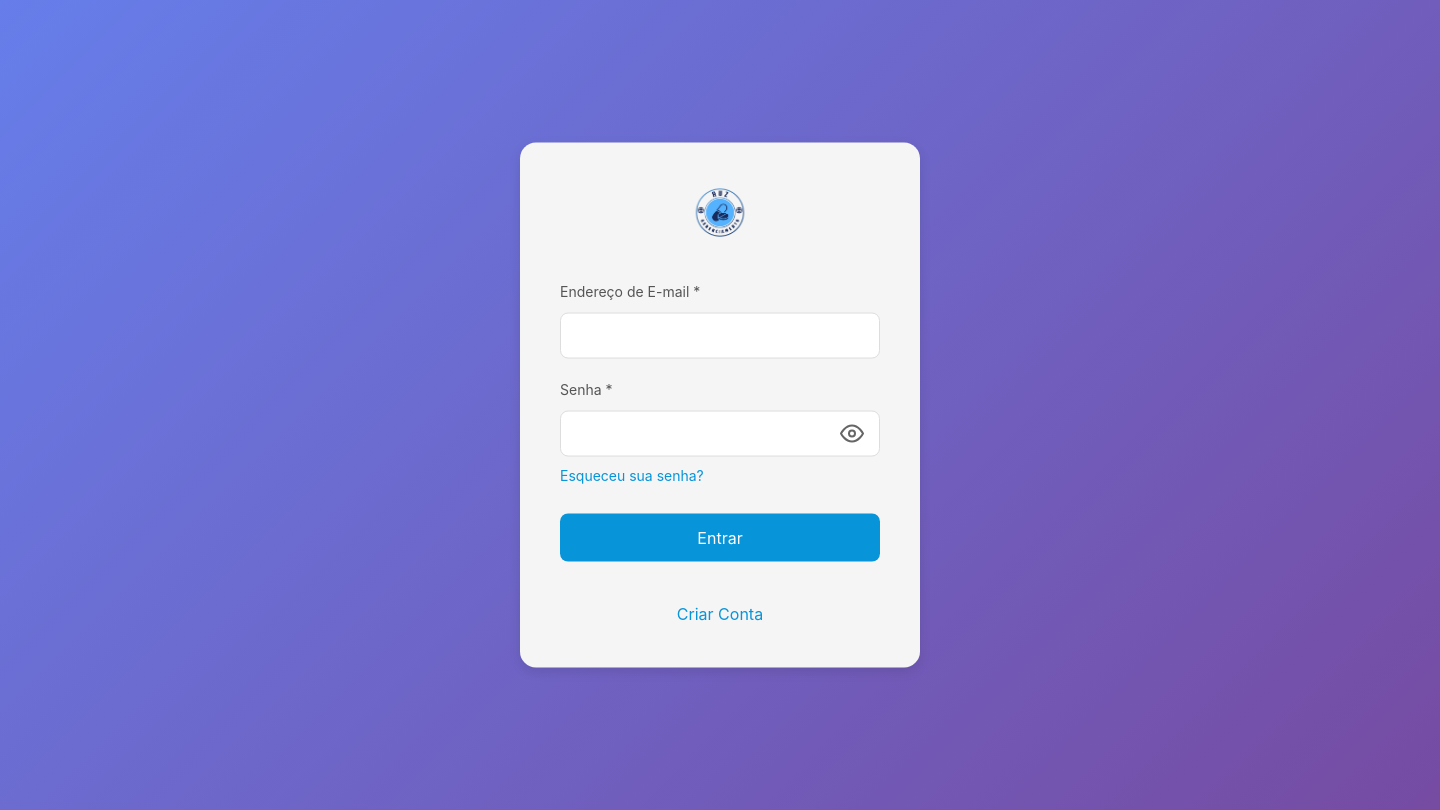
Test case: Login Component › shows validation error for invalid email format
This screenshot has width=1440, height=810.
In the field labelled "Endereço de E-mail *": (720, 336) [560,312,880,358], type "invalid-email"
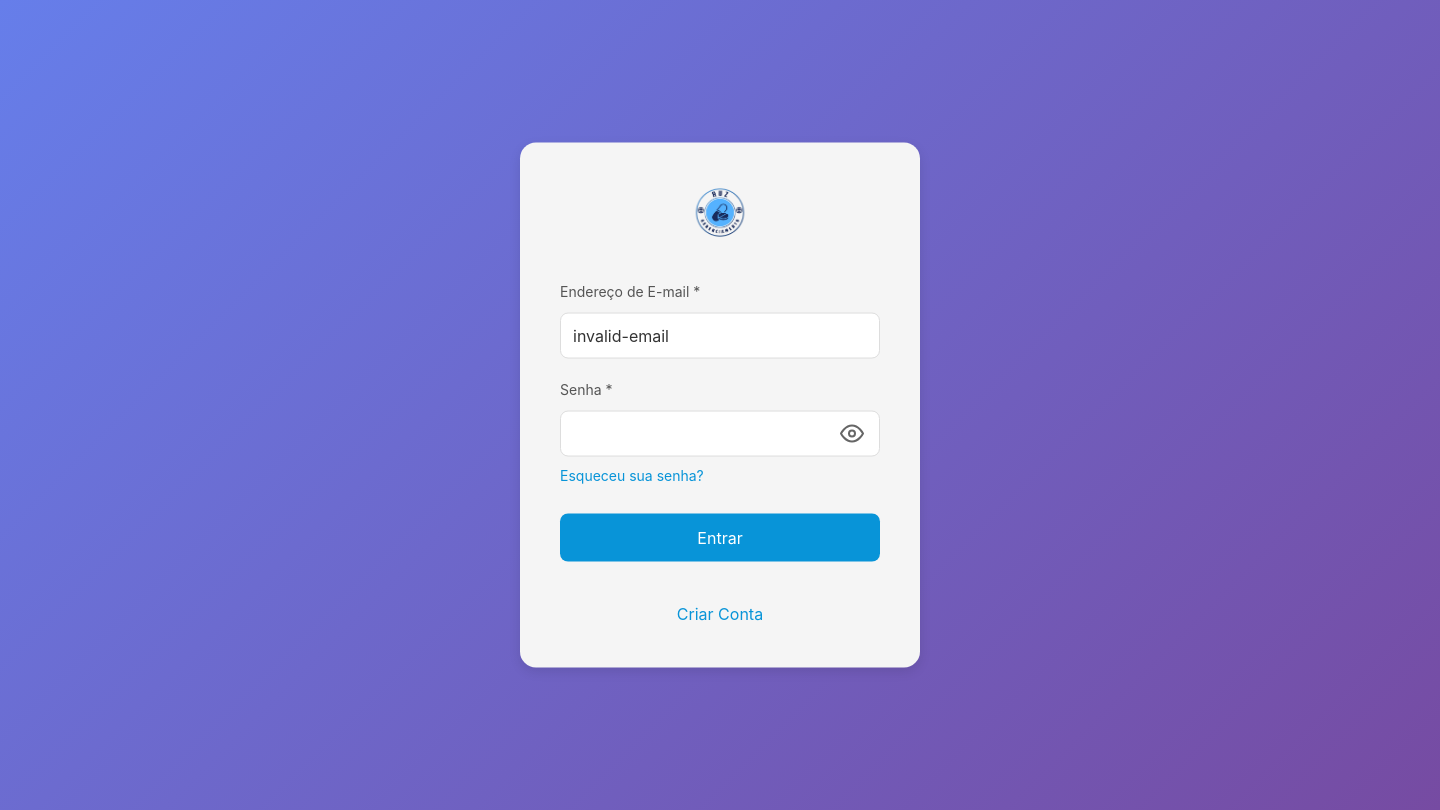
In the password field labelled "Senha *": (720, 434) [560,411,880,457], type "password123"
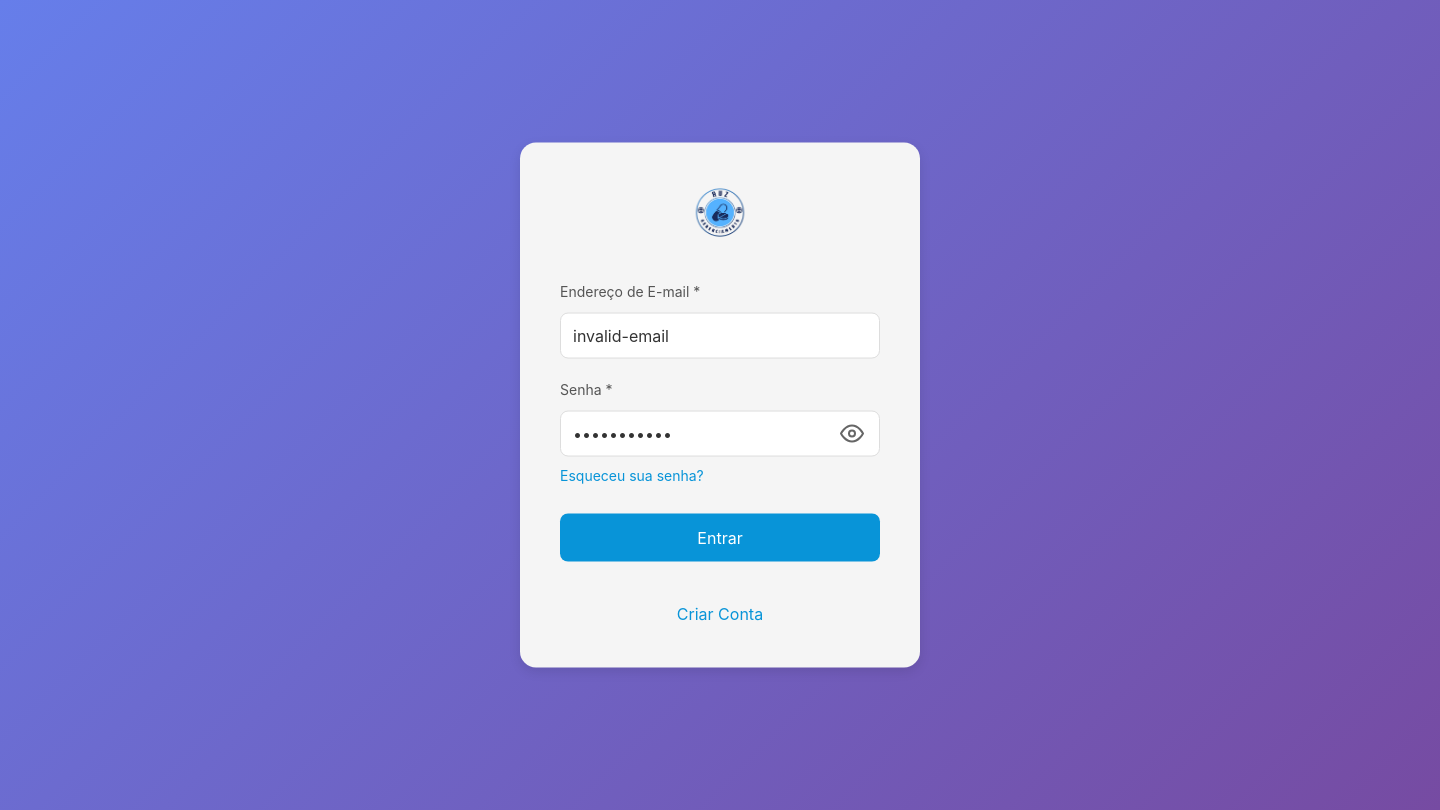
Click the button "Entrar": (720, 538) [560,514,880,562]
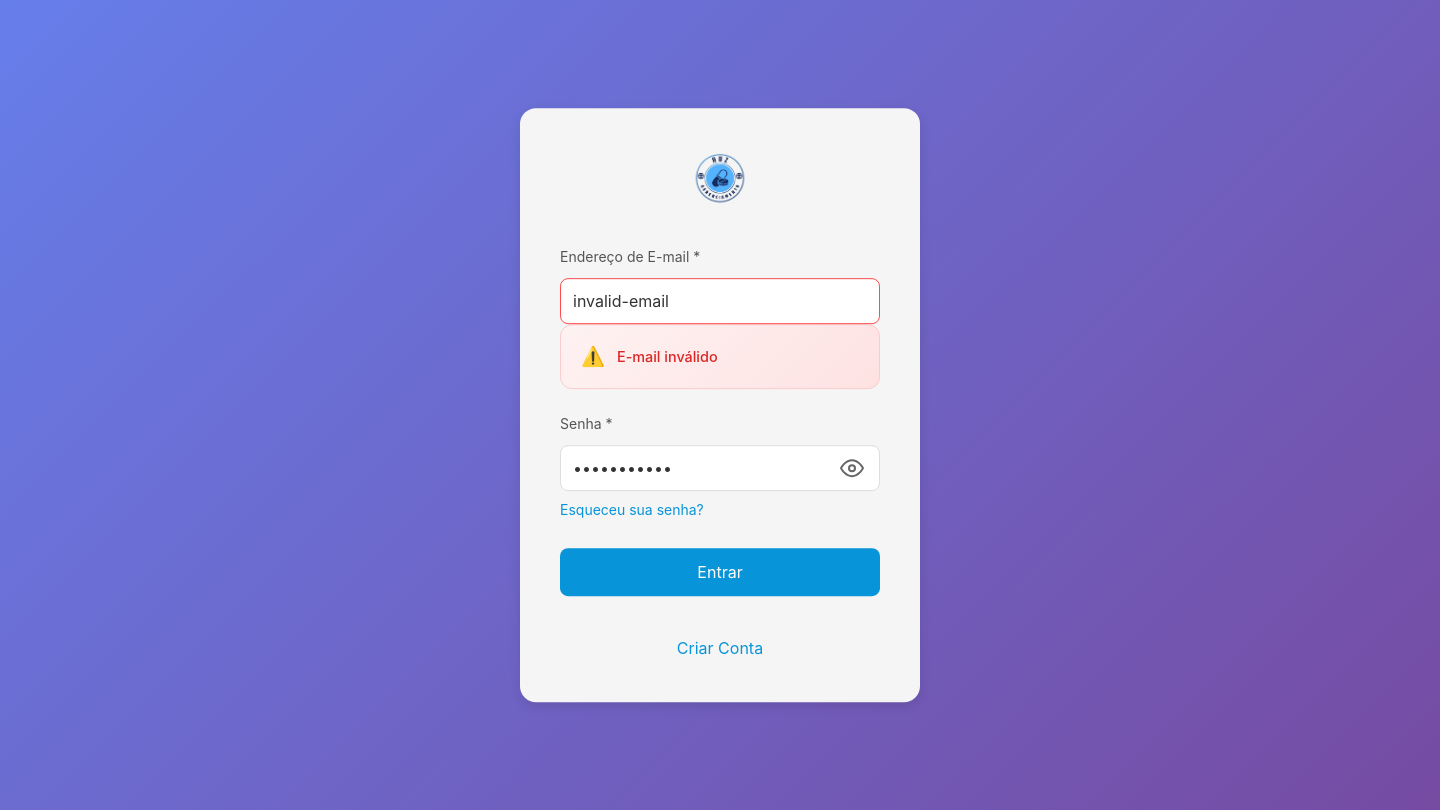
Result: the text "E-mail inválido" is shown at [560,324,880,389]
